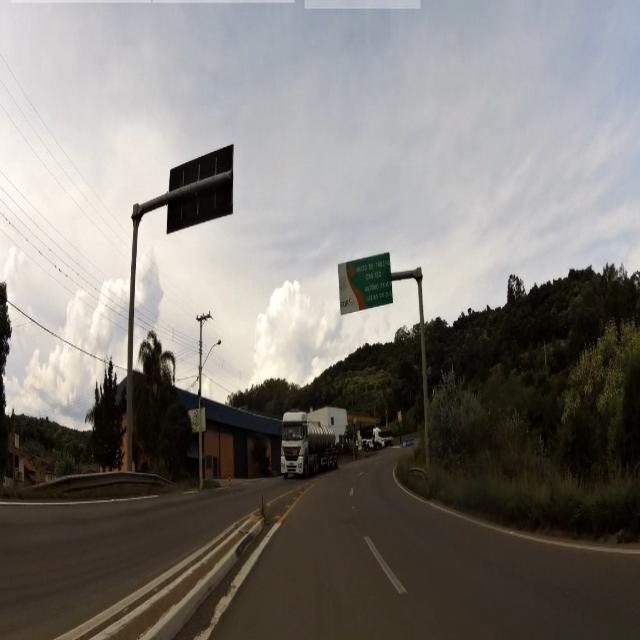I-4: (350, 256, 395, 304)
